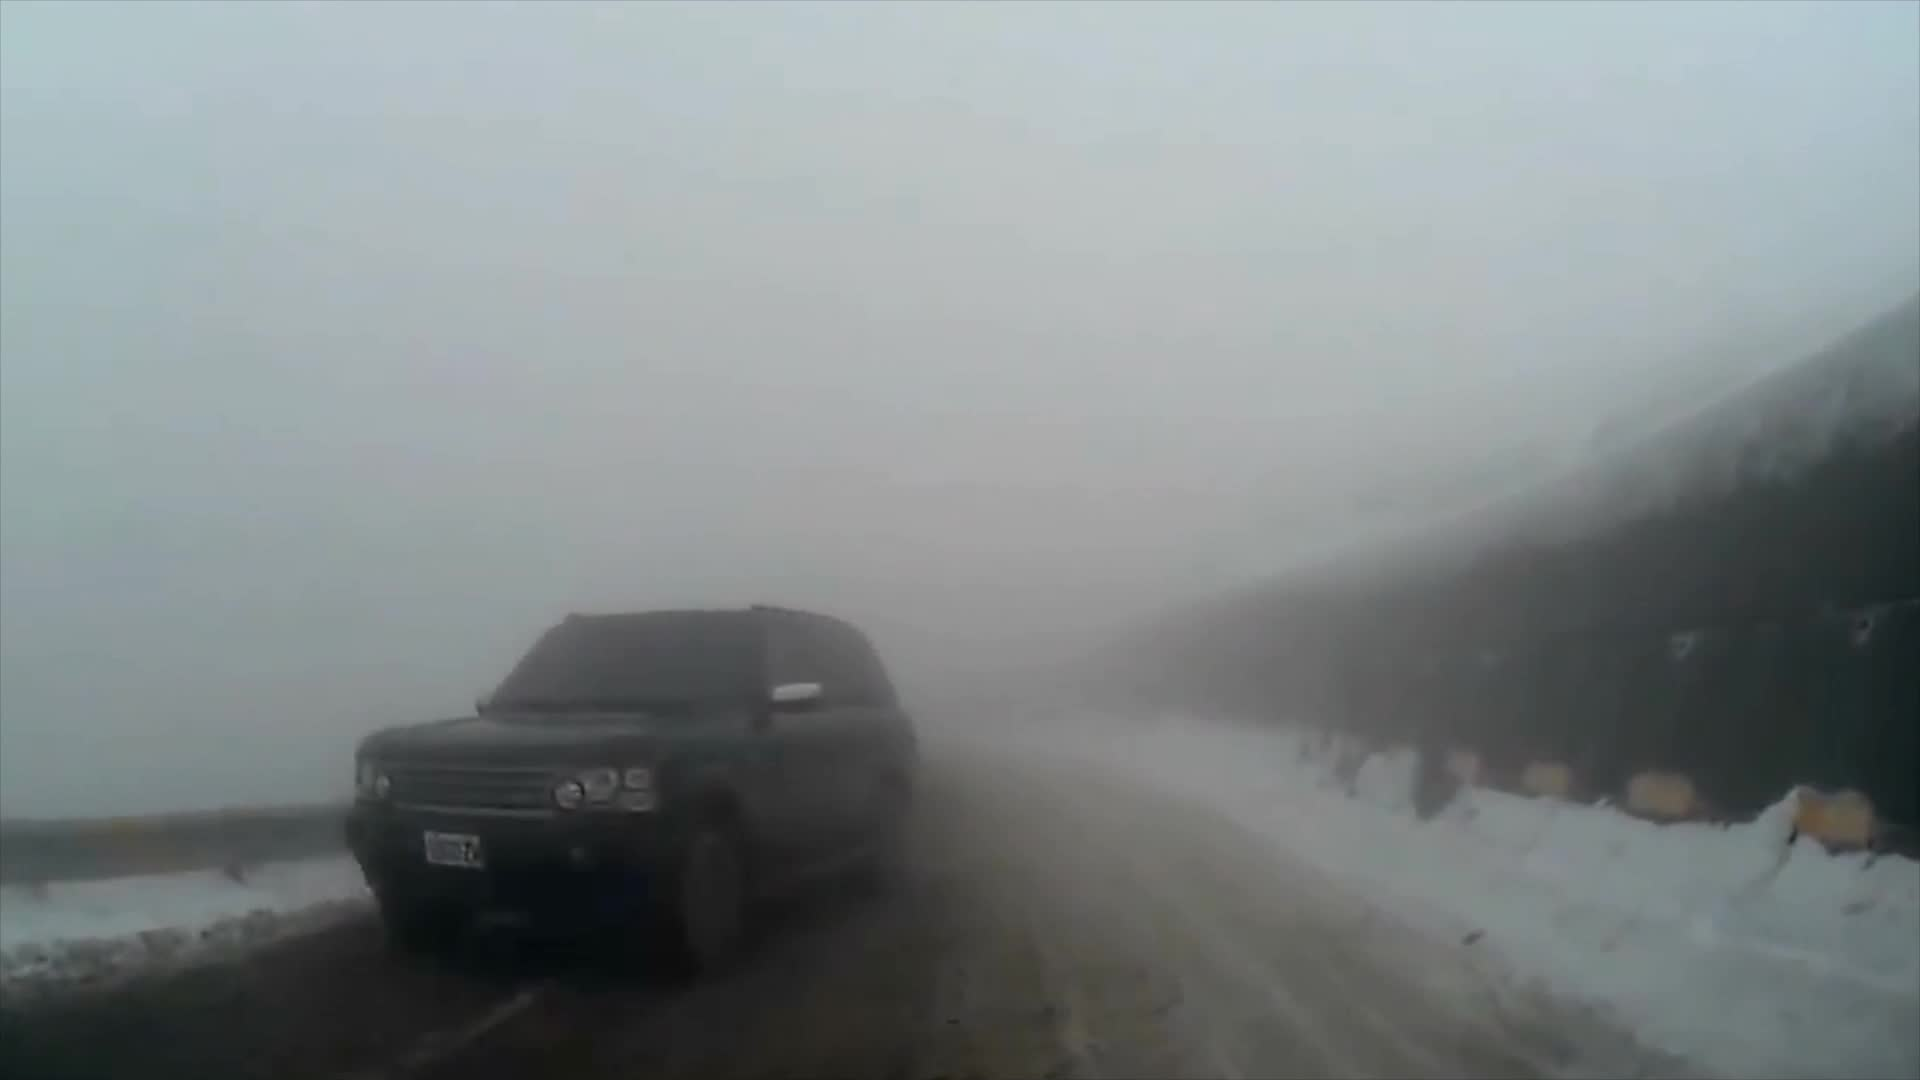vehicle: (340, 601, 932, 972)
